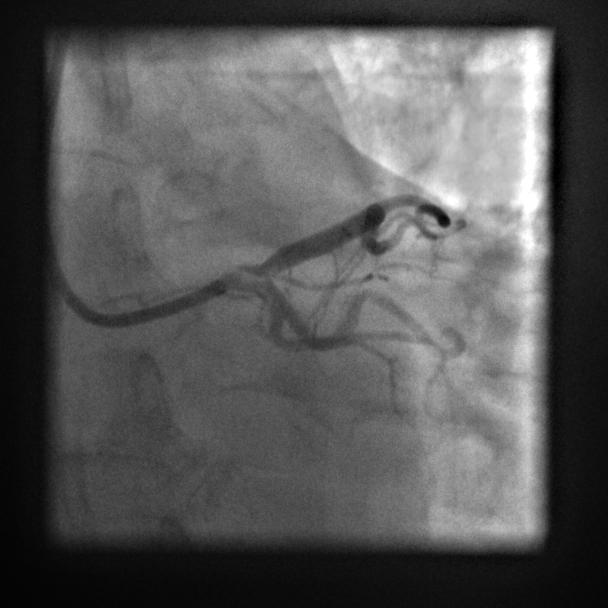Stenosis: (250, 251, 283, 280)
